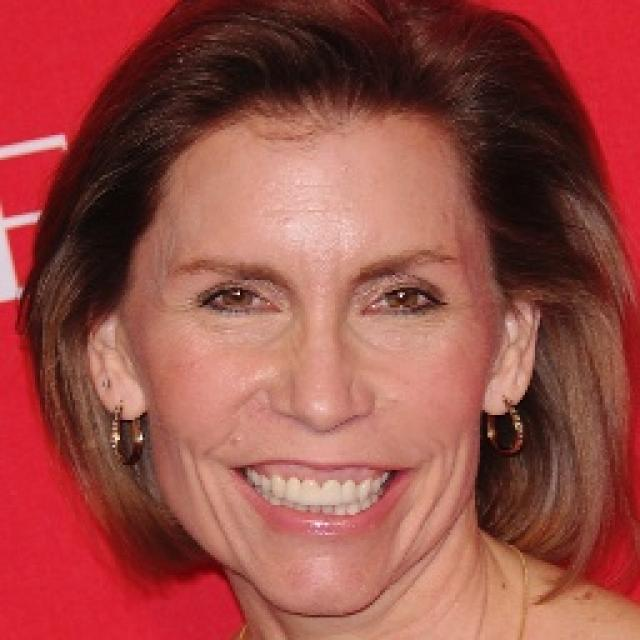earlobe: (100, 387, 148, 425), (483, 383, 527, 421)
eye: (200, 275, 272, 321), (367, 282, 448, 318)
nose: (271, 405, 372, 452)
wholeear: (480, 262, 549, 418), (72, 285, 144, 419)
